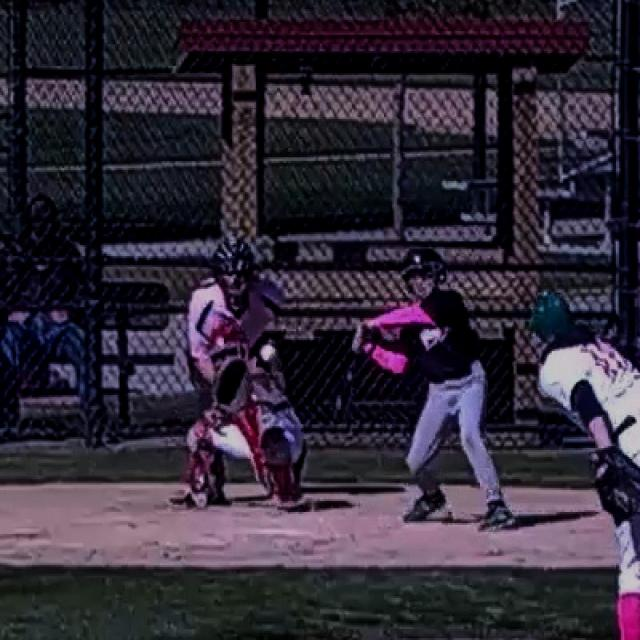baseball: (261, 346, 275, 360)
